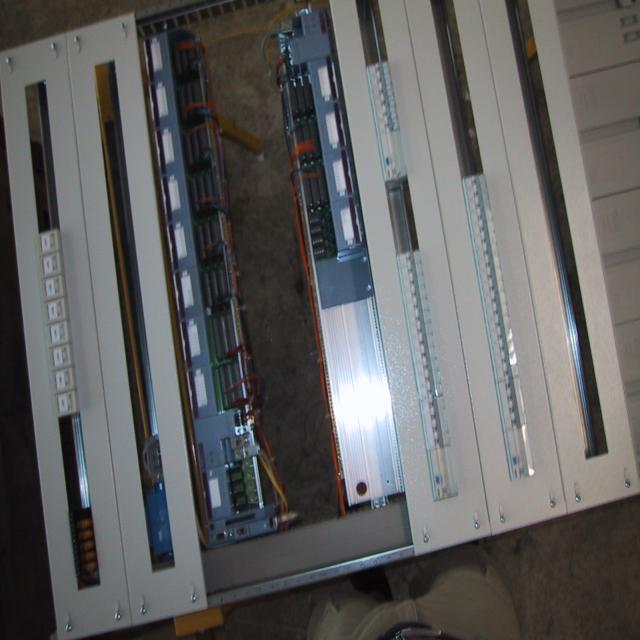Schaltkasten: (1, 0, 640, 639)
